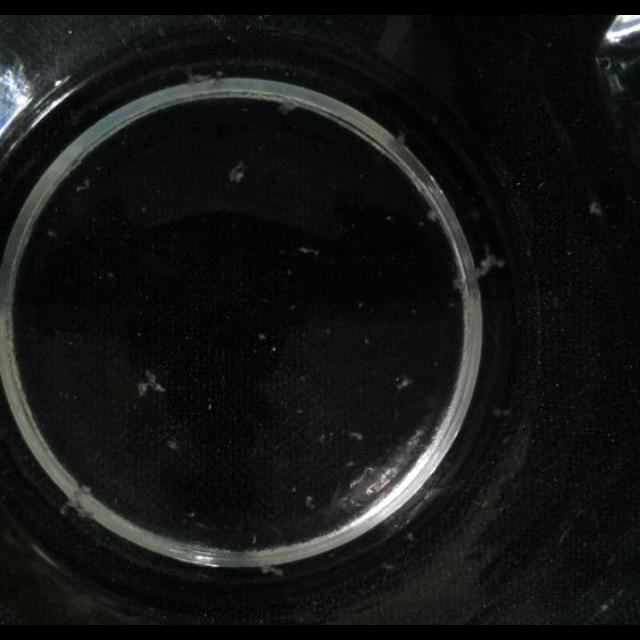Fibre: (136, 370, 166, 398), (476, 250, 504, 278), (229, 160, 247, 182), (277, 99, 299, 115), (395, 376, 413, 390), (298, 246, 318, 256), (76, 178, 90, 192), (426, 208, 440, 222), (348, 430, 364, 440), (166, 439, 178, 451)
microbeads: (588, 202, 602, 216)
